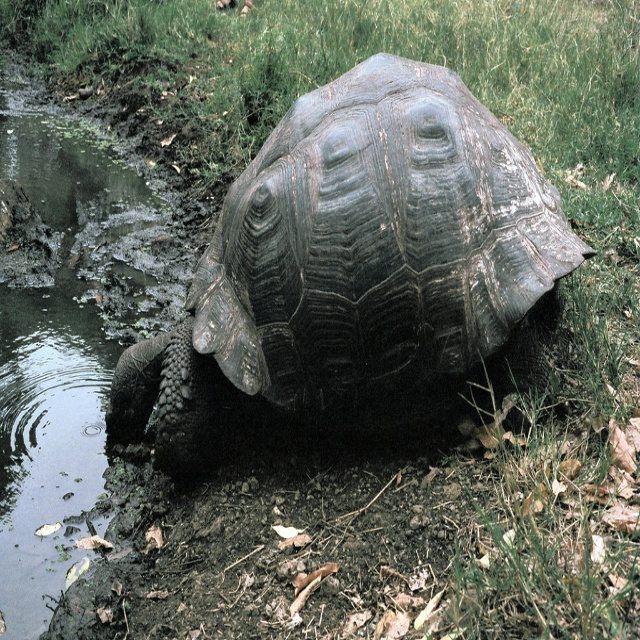Tortoise: (106, 53, 597, 478)
